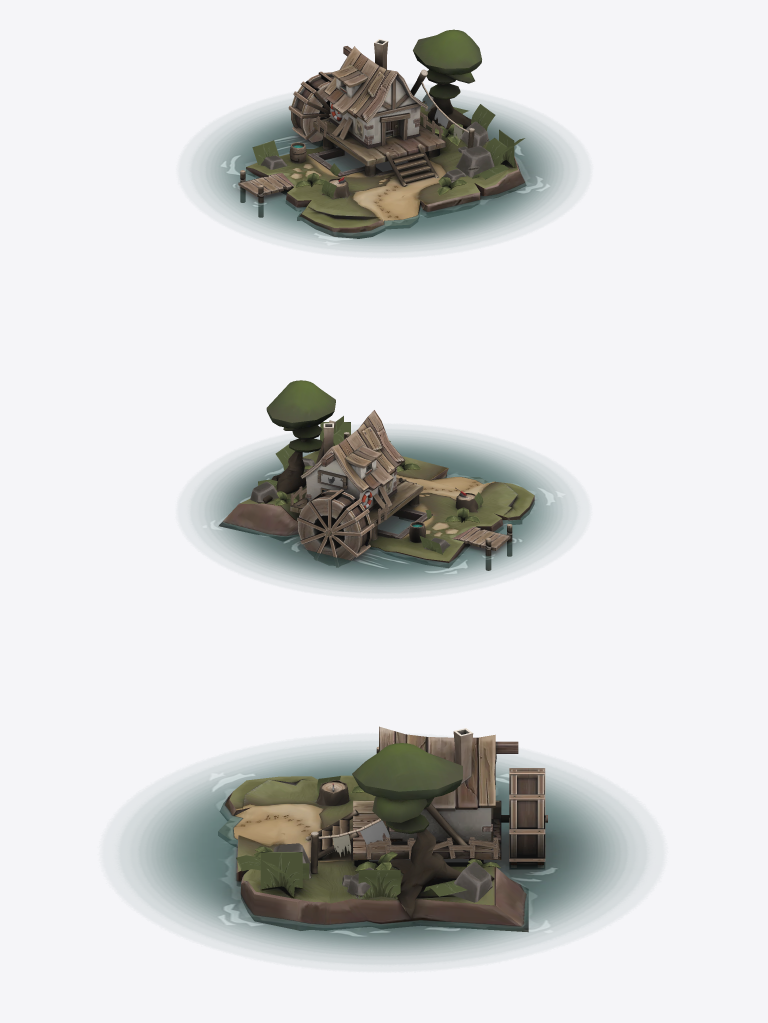
Rendered from the_mill-center-transformed.glb.
3 views of the same model, one above another, from view 1: azimuth 30°, elevation 25°; view 2: azimuth 150°, elevation 25°; view 3: azimuth 270°, elevation 25° (orthographic). The views are drawn at different scales.
Parts seen in each view (by area): view 1: m_Water_Material #152_0, m_Ground_Material #58_0, m_House_Material #81_0, m_House_Material #2_0, m_Tree_Material #33_0, m_Grass_Material #109_0, m_Rock_Material #27_0, m_Pier_Material #31_0, m_WoodenBeams_Material #25_0, m_House_Material #1_0, m_Plants_Material #155_0, m_StoneLedge_Material #29_0 (+1 smaller); view 2: m_Water_Material #152_0, m_Ground_Material #58_0, m_House_Material #81_0, m_Tree_Material #33_0, m_House_Material #1_0, m_House_Material #2_0, m_Grass_Material #109_0, m_Pier_Material #31_0, m_Tree_Material #106_0, m_Plants_Material #155_0, m_Rock_Material #27_0, m_StoneLedge_Material #29_0; view 3: m_Water_Material #152_0, m_Ground_Material #58_0, m_House_Material #81_0, m_Tree_Material #33_0, m_Grass_Material #109_0, m_House_Material #2_0, m_Tree_Material #106_0, m_Rock_Material #27_0, m_House_Material #1_0, m_Fence_Material #59_0, m_Tree_Material #101_0, m_Clothline_Material #26_0 (+4 smaller).
Part boxes in pixels (x1=…): m_Water_Material #152_0: x1=190, y1=89, x2=578, y2=252; m_Ground_Material #58_0: x1=246, y1=107, x2=526, y2=238; m_House_Material #81_0: x1=290, y1=39, x2=427, y2=148; m_House_Material #2_0: x1=313, y1=117, x2=446, y2=186; m_Tree_Material #33_0: x1=413, y1=29, x2=481, y2=74; m_Grass_Material #109_0: x1=252, y1=104, x2=524, y2=198; m_Rock_Material #27_0: x1=261, y1=95, x2=494, y2=182; m_Pier_Material #31_0: x1=238, y1=170, x2=293, y2=217; m_WoodenBeams_Material #25_0: x1=332, y1=77, x2=420, y2=145; m_House_Material #1_0: x1=288, y1=71, x2=332, y2=139; m_Plants_Material #155_0: x1=295, y1=102, x2=467, y2=195; m_StoneLedge_Material #29_0: x1=308, y1=147, x2=423, y2=176; m_Water_Material #152_0: x1=189, y1=429, x2=577, y2=592; m_Ground_Material #58_0: x1=219, y1=450, x2=534, y2=567; m_House_Material #81_0: x1=298, y1=410, x2=405, y2=565; m_Tree_Material #33_0: x1=266, y1=380, x2=335, y2=428; m_House_Material #1_0: x1=297, y1=489, x2=374, y2=567; m_House_Material #2_0: x1=290, y1=477, x2=423, y2=540; m_Grass_Material #109_0: x1=258, y1=416, x2=483, y2=554; m_Pier_Material #31_0: x1=452, y1=524, x2=512, y2=570; m_Tree_Material #106_0: x1=263, y1=439, x2=306, y2=503; m_Plants_Material #155_0: x1=275, y1=457, x2=480, y2=522; m_Rock_Material #27_0: x1=250, y1=458, x2=449, y2=552; m_StoneLedge_Material #29_0: x1=377, y1=507, x2=432, y2=538; m_Water_Material #152_0: x1=117, y1=741, x2=648, y2=964; m_Ground_Material #58_0: x1=218, y1=775, x2=528, y2=931; m_House_Material #81_0: x1=378, y1=726, x2=547, y2=867; m_Tree_Material #33_0: x1=352, y1=743, x2=462, y2=800; m_Grass_Material #109_0: x1=236, y1=776, x2=466, y2=898; m_House_Material #2_0: x1=306, y1=800, x2=501, y2=866; m_Tree_Material #106_0: x1=390, y1=829, x2=494, y2=919; m_Rock_Material #27_0: x1=273, y1=843, x2=492, y2=902; m_House_Material #1_0: x1=509, y1=768, x2=545, y2=868; m_Fence_Material #59_0: x1=365, y1=837, x2=498, y2=859; m_Tree_Material #101_0: x1=372, y1=796, x2=427, y2=822; m_Clothline_Material #26_0: x1=310, y1=803, x2=469, y2=873.
Size of the model in its own units: 11.22 by 2.98 by 11.22.
Materials: 23 (23 with a texture image).
